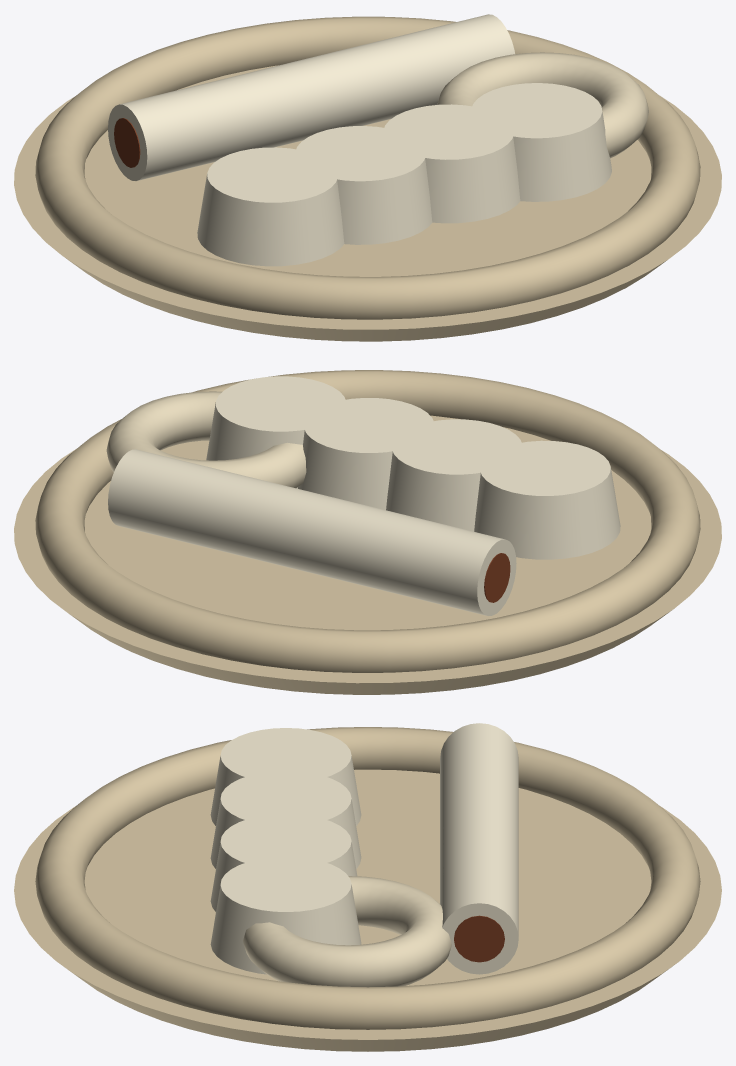
The model's file is pitha-assortment.glb.
3 renders of one model, top to bottom at view 1: azimuth 30°, elevation 25°; view 2: azimuth 150°, elevation 25°; view 3: azimuth 270°, elevation 25°, orthographic.
Parts seen in each view (by area): view 1: raised-rim, plate-base, bhapa-pitha-1, patisapta-2, patisapta-1, bhapa-pitha-2, bhapa-pitha-4, bhapa-pitha-3, patisapta-3, coconut-ring-pitha, patisapta-filling-1; view 2: raised-rim, plate-base, patisapta-1, bhapa-pitha-1, patisapta-3, bhapa-pitha-3, bhapa-pitha-2, patisapta-2, bhapa-pitha-4, coconut-ring-pitha, patisapta-filling-1; view 3: plate-base, raised-rim, coconut-ring-pitha, bhapa-pitha-4, patisapta-3, bhapa-pitha-1, bhapa-pitha-2, bhapa-pitha-3, patisapta-1, patisapta-2, patisapta-filling-3.
Boxes of the visible parts, bbox=[...] form: raised-rim: bbox=[35, 16, 700, 319]; plate-base: bbox=[14, 65, 721, 341]; bhapa-pitha-1: bbox=[197, 147, 344, 266]; patisapta-2: bbox=[219, 38, 416, 150]; patisapta-1: bbox=[108, 63, 317, 180]; bhapa-pitha-2: bbox=[295, 126, 432, 244]; bhapa-pitha-4: bbox=[472, 83, 611, 201]; bhapa-pitha-3: bbox=[384, 104, 520, 223]; patisapta-3: bbox=[318, 14, 514, 125]; coconut-ring-pitha: bbox=[437, 52, 648, 158]; patisapta-filling-1: bbox=[114, 118, 140, 167]; raised-rim: bbox=[35, 370, 700, 672]; plate-base: bbox=[14, 415, 721, 694]; patisapta-1: bbox=[306, 498, 516, 616]; bhapa-pitha-1: bbox=[474, 440, 620, 559]; patisapta-3: bbox=[108, 449, 300, 563]; bhapa-pitha-3: bbox=[298, 398, 433, 510]; bhapa-pitha-2: bbox=[386, 419, 521, 531]; patisapta-2: bbox=[207, 473, 399, 591]; bhapa-pitha-4: bbox=[206, 376, 346, 488]; coconut-ring-pitha: bbox=[106, 391, 306, 488]; patisapta-filling-1: bbox=[484, 553, 510, 602]; plate-base: bbox=[14, 769, 721, 1051]; raised-rim: bbox=[35, 727, 700, 1029]; coconut-ring-pitha: bbox=[243, 876, 451, 987]; bhapa-pitha-4: bbox=[210, 857, 361, 974]; patisapta-3: bbox=[440, 820, 518, 974]; bhapa-pitha-1: bbox=[210, 728, 361, 825]; bhapa-pitha-2: bbox=[210, 771, 361, 868]; bhapa-pitha-3: bbox=[210, 813, 357, 911]; patisapta-1: bbox=[440, 723, 518, 838]; patisapta-2: bbox=[440, 771, 518, 889]; patisapta-filling-3: bbox=[454, 915, 504, 962].
Size of the model in its own units: 2.16 by 0.34 by 2.16.
